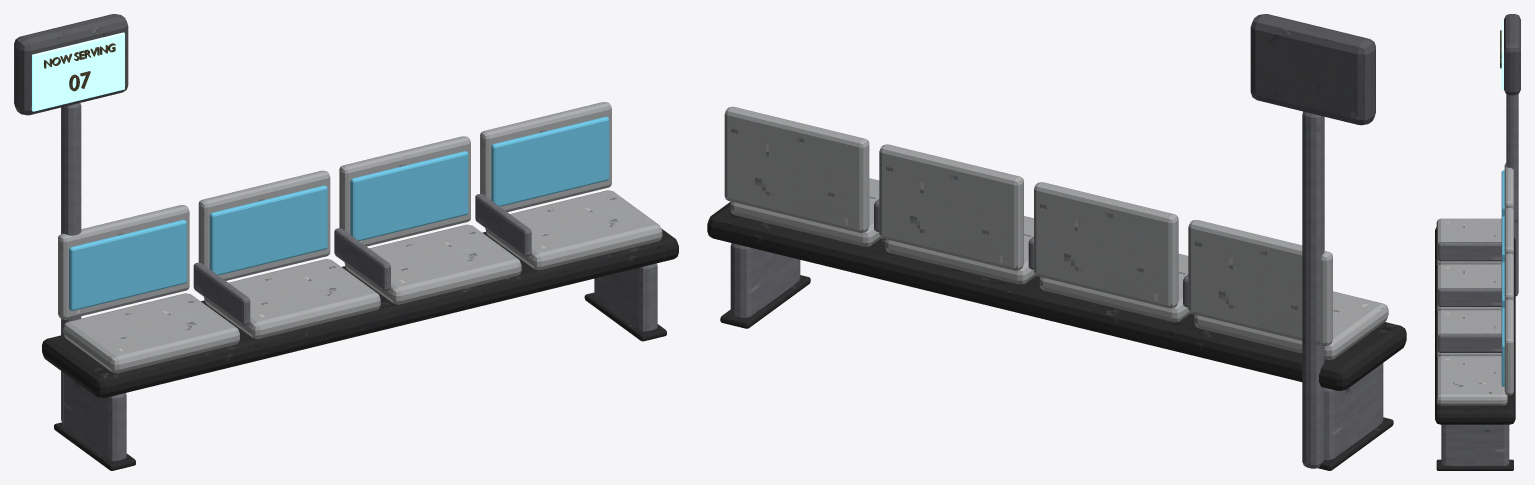
The model's file is decor_med_waiting_row.glb.
3 renders of one model, left to right at view 1: azimuth 30°, elevation 25°; view 2: azimuth 150°, elevation 25°; view 3: azimuth 270°, elevation 25°, orthographic. The views are drawn at different scales.
Parts seen in each view (by area): view 1: DEC_MedWaitingRow__Bench_Frame, DEC_MedWaitingRow__Bench_Seat_1, DEC_MedWaitingRow__Bench_Back_Pad_3, DEC_MedWaitingRow__Bench_Back_Pad_4, DEC_MedWaitingRow__Bench_Back_Pad_2, DEC_MedWaitingRow__Bench_Back_Pad_1, DEC_MedWaitingRow__Bench_Seat_4, DEC_MedWaitingRow__Bench_Seat_2, DEC_MedWaitingRow__Bench_Seat_3, DEC_MedWaitingRow__Display_Glow, DEC_MedWaitingRow__Bench_Back_1, DEC_MedWaitingRow__Display_Body (+11 smaller); view 2: DEC_MedWaitingRow__Bench_Frame, DEC_MedWaitingRow__Bench_Back_4, DEC_MedWaitingRow__Bench_Back_2, DEC_MedWaitingRow__Bench_Back_3, DEC_MedWaitingRow__Bench_Back_1, DEC_MedWaitingRow__Display_Body, DEC_MedWaitingRow__Display_Post, DEC_MedWaitingRow__Bench_Seat_1, DEC_MedWaitingRow__Bench_Leg_1, DEC_MedWaitingRow__Bench_Leg_2, DEC_MedWaitingRow__Bench_Seat_4, DEC_MedWaitingRow__Bench_Seat_2 (+3 smaller); view 3: DEC_MedWaitingRow__Bench_Seat_4, DEC_MedWaitingRow__Bench_Leg_2, DEC_MedWaitingRow__Bench_Frame, DEC_MedWaitingRow__Bench_Seat_1, DEC_MedWaitingRow__Bench_Seat_2, DEC_MedWaitingRow__Bench_Seat_3, DEC_MedWaitingRow__Display_Post, DEC_MedWaitingRow__Display_Body, DEC_MedWaitingRow__Bench_Divider_1, DEC_MedWaitingRow__Bench_Divider_3, DEC_MedWaitingRow__Bench_Divider_2, DEC_MedWaitingRow__Bench_Back_4 (+9 smaller).
Boxes of the visible parts, <box> form: DEC_MedWaitingRow__Bench_Frame: <box>42,228,678,397</box>; DEC_MedWaitingRow__Bench_Seat_1: <box>63,293,239,373</box>; DEC_MedWaitingRow__Bench_Back_Pad_3: <box>350,151,468,240</box>; DEC_MedWaitingRow__Bench_Back_Pad_4: <box>491,116,609,206</box>; DEC_MedWaitingRow__Bench_Back_Pad_2: <box>209,185,327,275</box>; DEC_MedWaitingRow__Bench_Back_Pad_1: <box>69,219,186,310</box>; DEC_MedWaitingRow__Bench_Seat_4: <box>485,190,662,270</box>; DEC_MedWaitingRow__Bench_Seat_2: <box>204,259,380,338</box>; DEC_MedWaitingRow__Bench_Seat_3: <box>344,224,521,304</box>; DEC_MedWaitingRow__Display_Glow: <box>32,32,124,111</box>; DEC_MedWaitingRow__Bench_Back_1: <box>58,205,189,319</box>; DEC_MedWaitingRow__Display_Body: <box>14,14,128,115</box>; DEC_MedWaitingRow__Bench_Frame: <box>707,201,1406,390</box>; DEC_MedWaitingRow__Bench_Back_4: <box>724,106,869,232</box>; DEC_MedWaitingRow__Bench_Back_2: <box>1034,182,1178,308</box>; DEC_MedWaitingRow__Bench_Back_3: <box>879,144,1023,270</box>; DEC_MedWaitingRow__Bench_Back_1: <box>1188,220,1332,346</box>; DEC_MedWaitingRow__Display_Body: <box>1250,14,1375,125</box>; DEC_MedWaitingRow__Display_Post: <box>1302,111,1324,468</box>; DEC_MedWaitingRow__Bench_Seat_1: <box>1194,291,1388,359</box>; DEC_MedWaitingRow__Bench_Leg_1: <box>1324,363,1383,460</box>; DEC_MedWaitingRow__Bench_Leg_2: <box>730,243,800,317</box>; DEC_MedWaitingRow__Bench_Seat_4: <box>730,178,881,246</box>; DEC_MedWaitingRow__Bench_Seat_2: <box>1039,254,1190,322</box>; DEC_MedWaitingRow__Bench_Seat_4: <box>1436,356,1507,405</box>; DEC_MedWaitingRow__Bench_Leg_2: <box>1441,424,1509,465</box>; DEC_MedWaitingRow__Bench_Frame: <box>1435,227,1515,424</box>; DEC_MedWaitingRow__Bench_Seat_1: <box>1436,218,1501,265</box>; DEC_MedWaitingRow__Bench_Seat_2: <box>1436,264,1501,311</box>; DEC_MedWaitingRow__Bench_Seat_3: <box>1436,310,1501,357</box>; DEC_MedWaitingRow__Display_Post: <box>1506,94,1518,296</box>; DEC_MedWaitingRow__Display_Body: <box>1504,14,1520,95</box>; DEC_MedWaitingRow__Bench_Divider_1: <box>1438,242,1501,261</box>; DEC_MedWaitingRow__Bench_Divider_3: <box>1438,333,1501,352</box>; DEC_MedWaitingRow__Bench_Divider_2: <box>1438,288,1501,306</box>; DEC_MedWaitingRow__Bench_Back_4: <box>1504,299,1513,394</box>.
Bounding box in the file's own units: 3.02 × 1.9 × 0.555.
7 materials, 4 textured.
